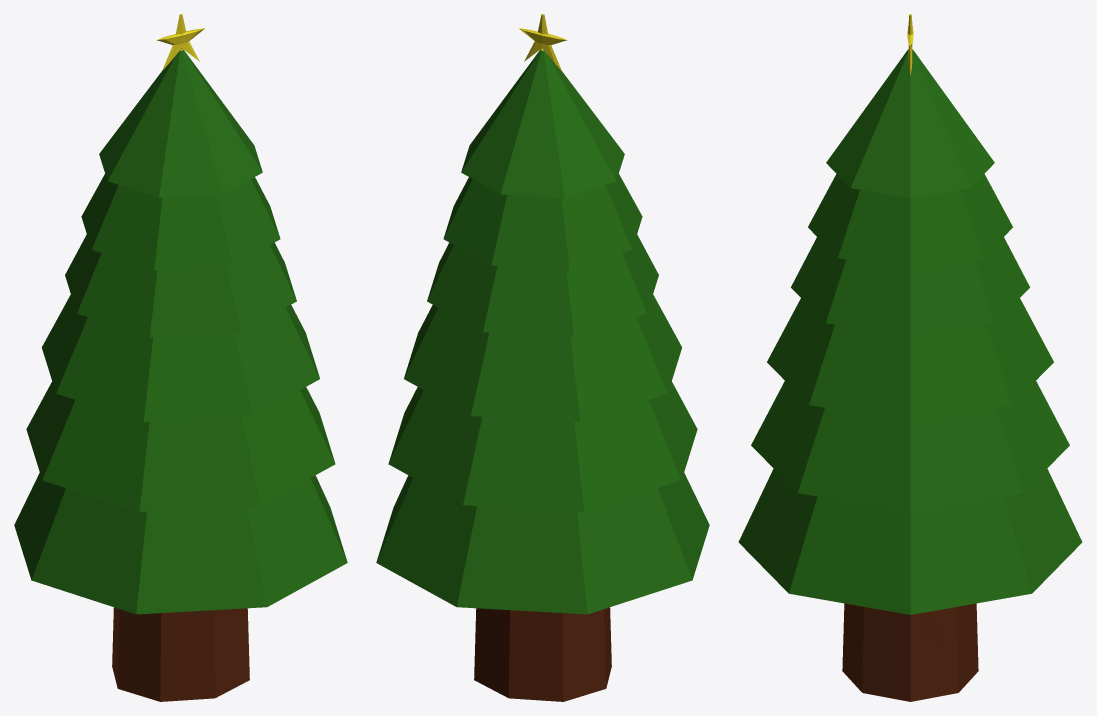
The model's file is christmastree.fbx.
The picture shows the model from 3 angles, left to right: view 1: azimuth 30°, elevation 25°; view 2: azimuth 150°, elevation 25°; view 3: azimuth 270°, elevation 25°; orthographic projection.
Parts seen in each view (by area): view 1: Cylinder; view 2: Cylinder; view 3: Cylinder.
Boxes of the visible parts, x1,y1,x2,y2 form: Cylinder: (14,14,347,701); Cylinder: (376,14,709,701); Cylinder: (738,14,1082,701).
Bounding box in the file's own units: 490 × 490 × 1032.
